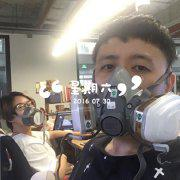OK: (96, 54, 168, 126), (9, 98, 44, 133)
